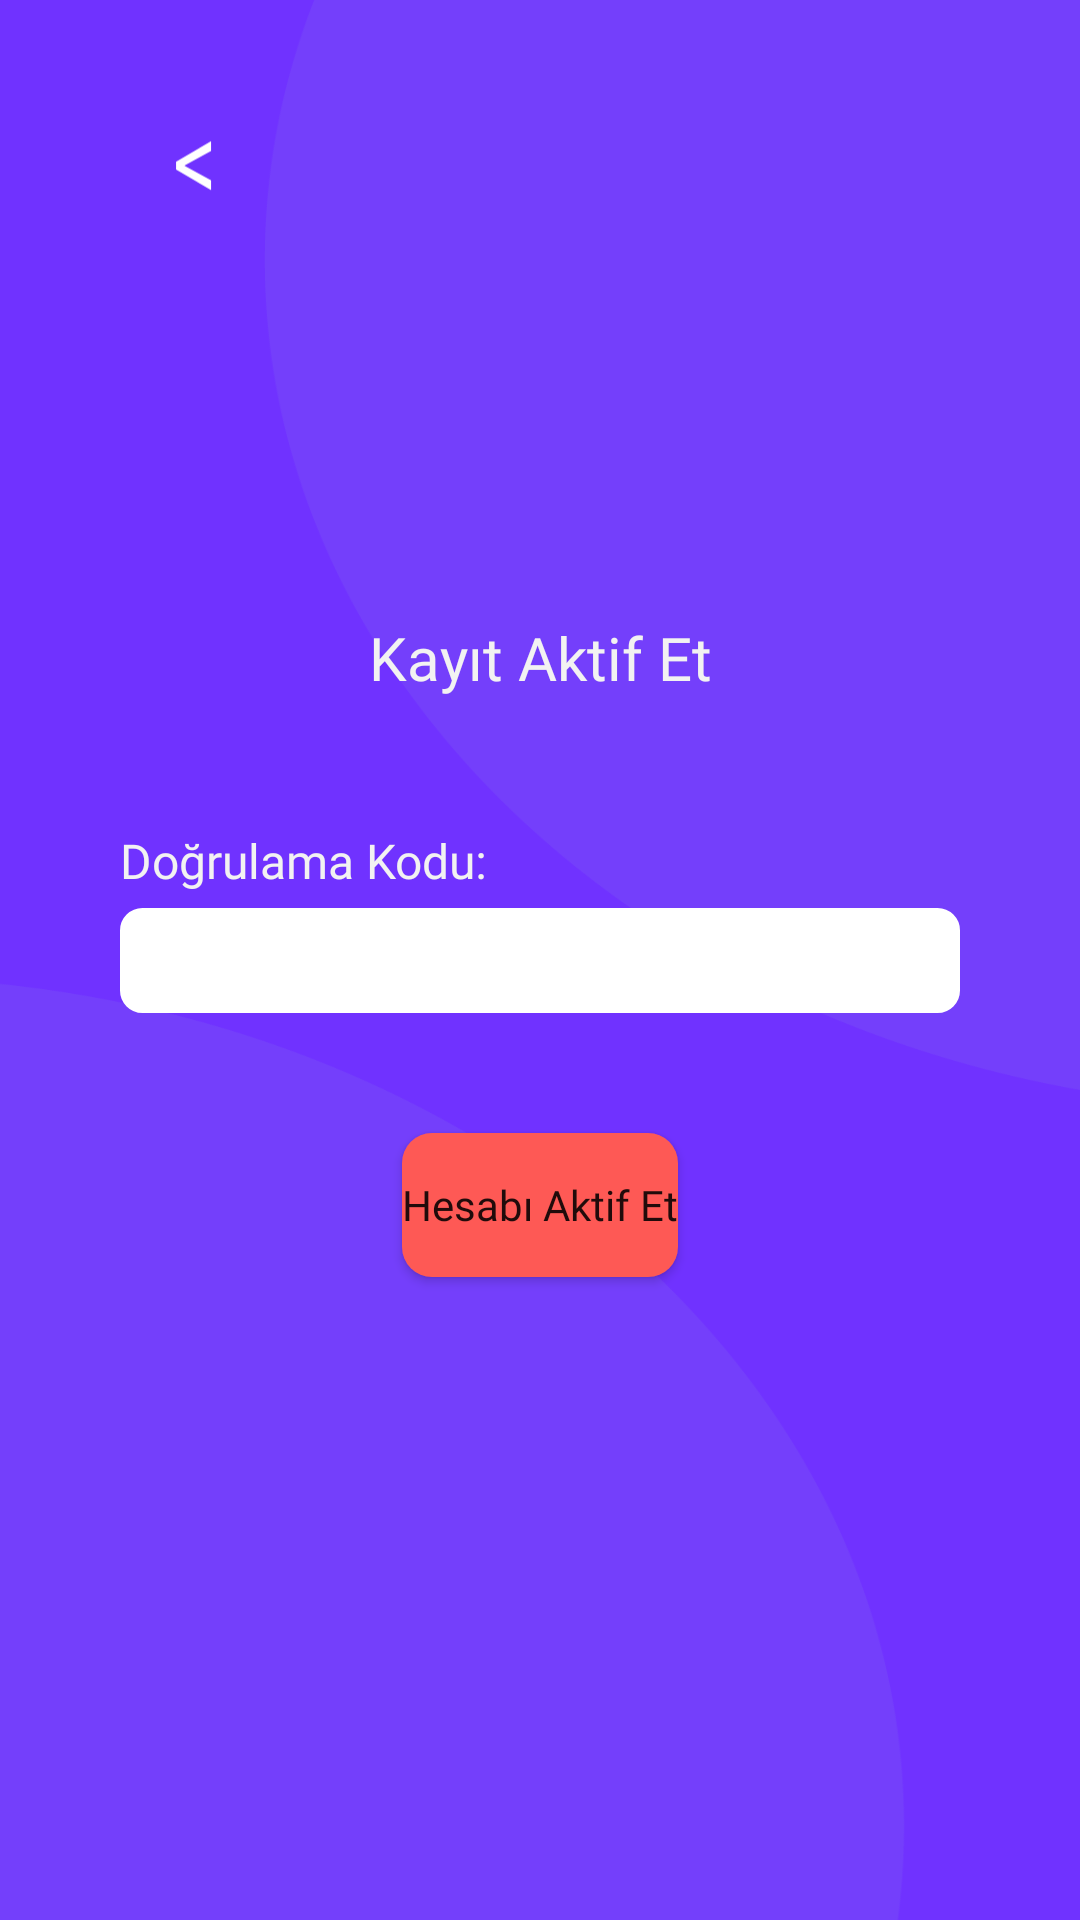

Where icons sit on this 1080w x 1920h app screen, as Rect(x1, y1, x2, y2):
backbtn: Rect(176, 141, 211, 190)
